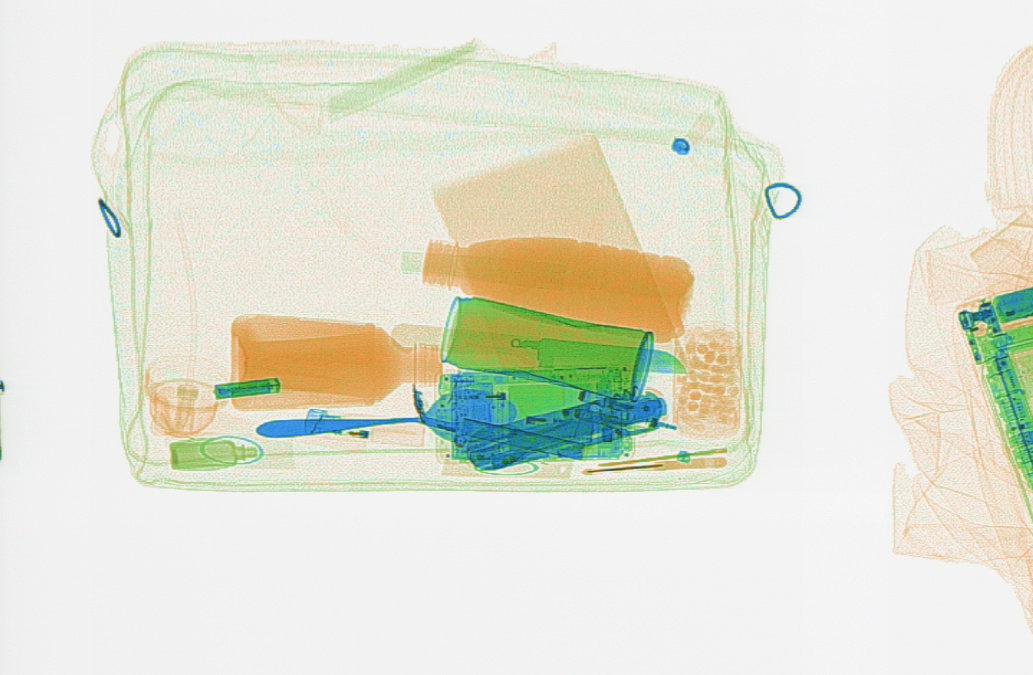knife: (386, 319, 687, 378), (463, 387, 667, 469)
lighter: (300, 403, 428, 449)
